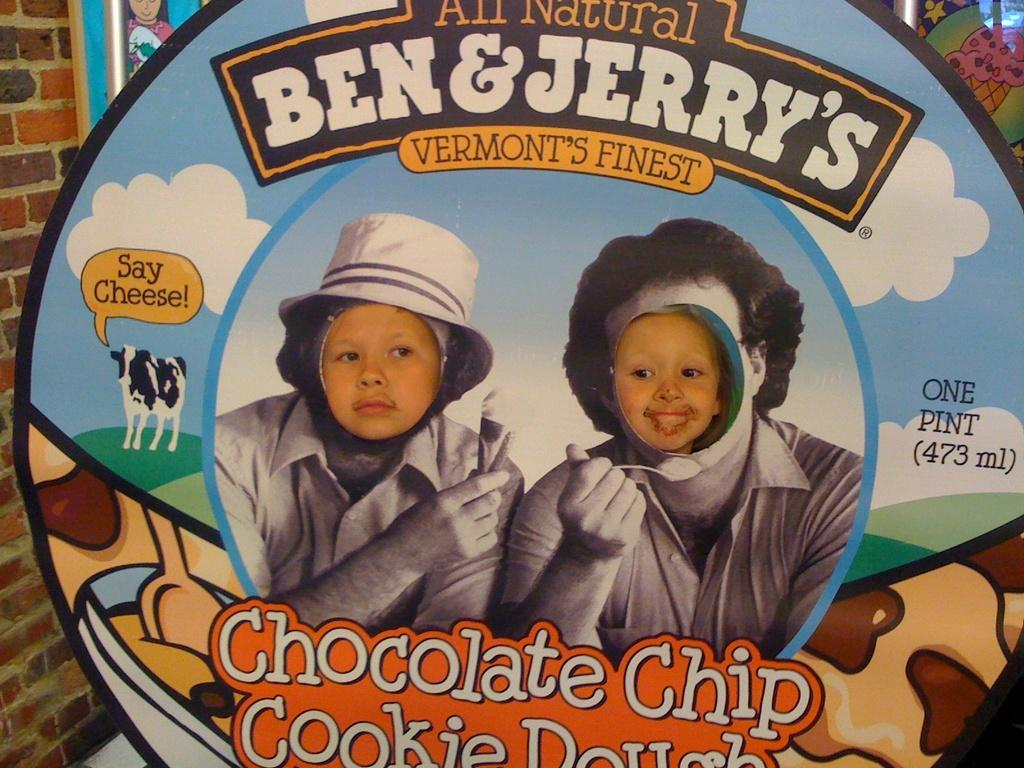Hat: (281, 207, 492, 404)
